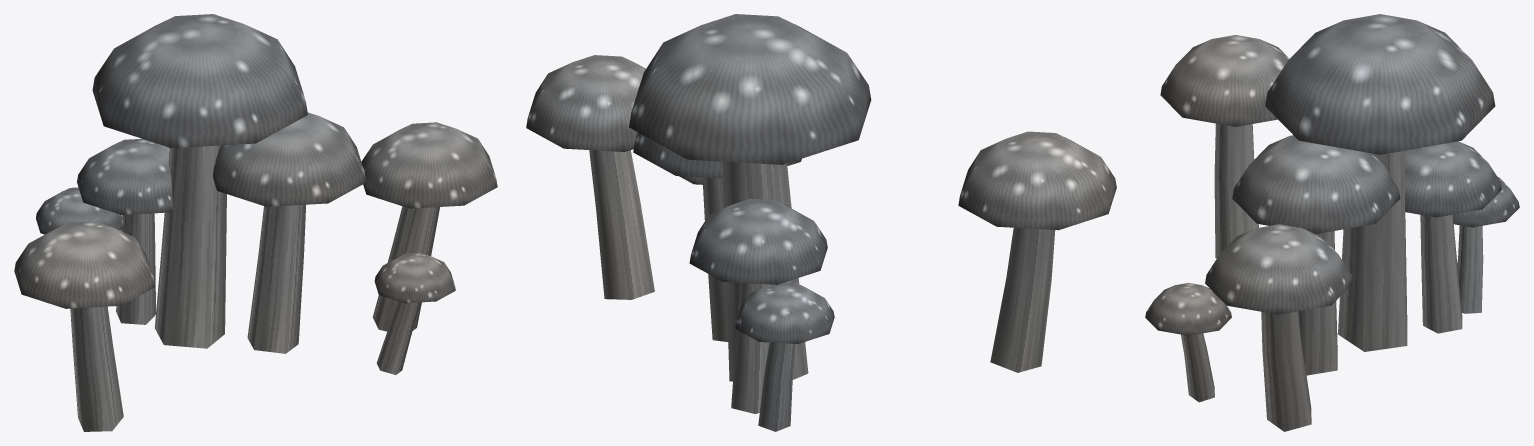
Rendered from shroom_cluster_l1.gltf.
3 views of the same model, side by side, from view 1: azimuth 30°, elevation 25°; view 2: azimuth 150°, elevation 25°; view 3: azimuth 270°, elevation 25° (orthographic). The views are drawn at different scales.
Parts seen in each view (by area): view 1: shroom_cluster_l1; view 2: shroom_cluster_l1; view 3: shroom_cluster_l1.
Part boxes in pixels (x1,y1,x2,y2): shroom_cluster_l1: (14, 14, 497, 431); shroom_cluster_l1: (526, 14, 1116, 431); shroom_cluster_l1: (1145, 14, 1519, 431).
Size of the model in its own units: 1.52 by 0.9101 by 0.9759.
2 materials, 2 textured.
